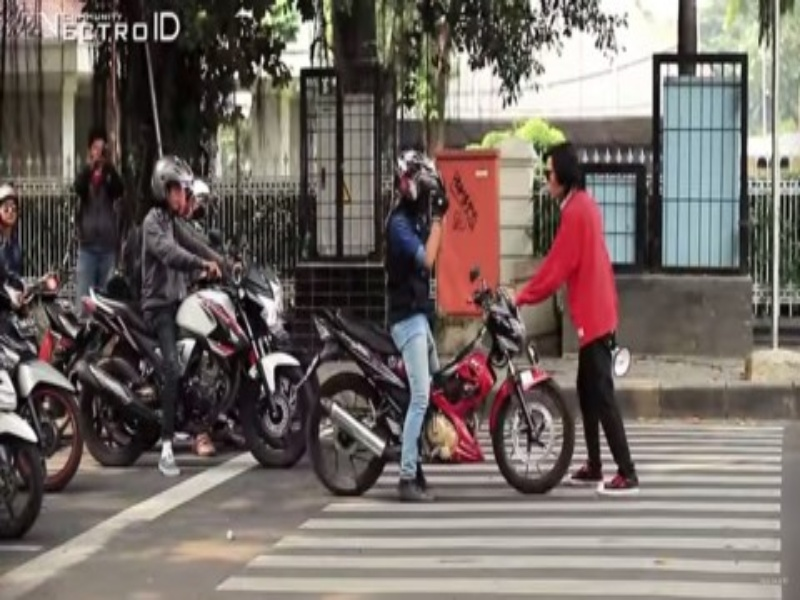zebra cross: (219, 416, 786, 595)
